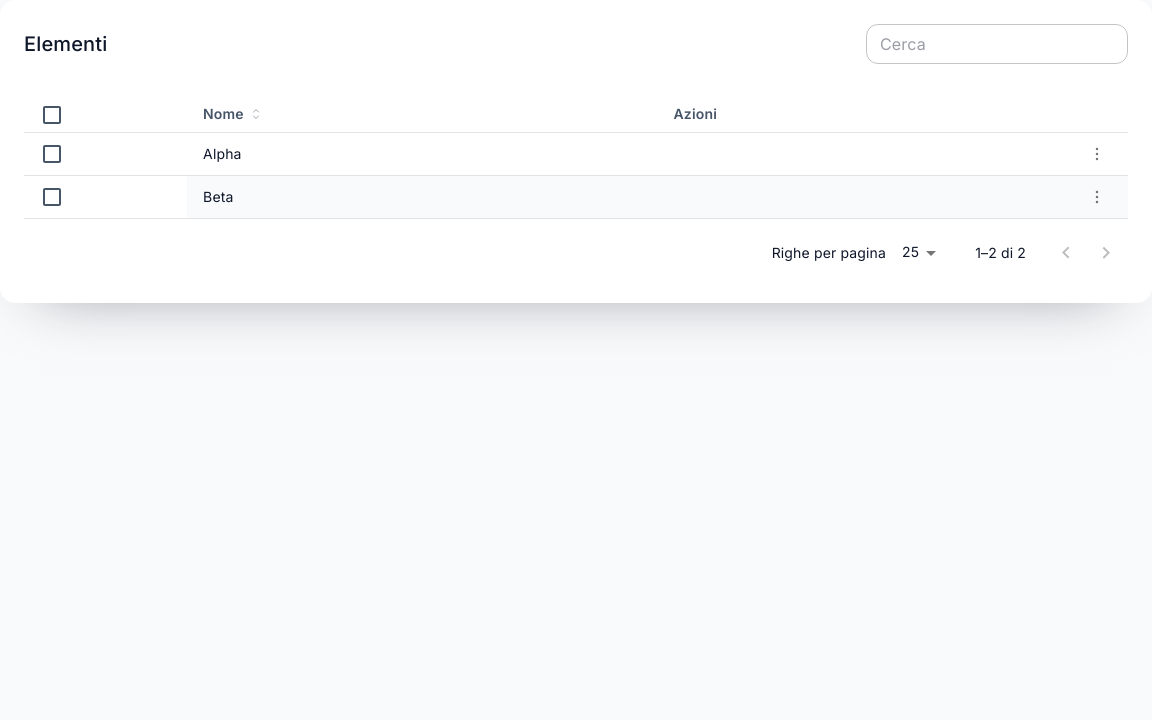
ListPage bulk selection › reports partial-failure counts when some bulk-edits reject
This screenshot has width=1152, height=720.
Expected: the text "Alpha" is shown, 187,132 -> 658,176
Click the checkbox named "Seleziona tutte le righe". click: coordinates (52, 115)
box: 40,103 -> 64,127
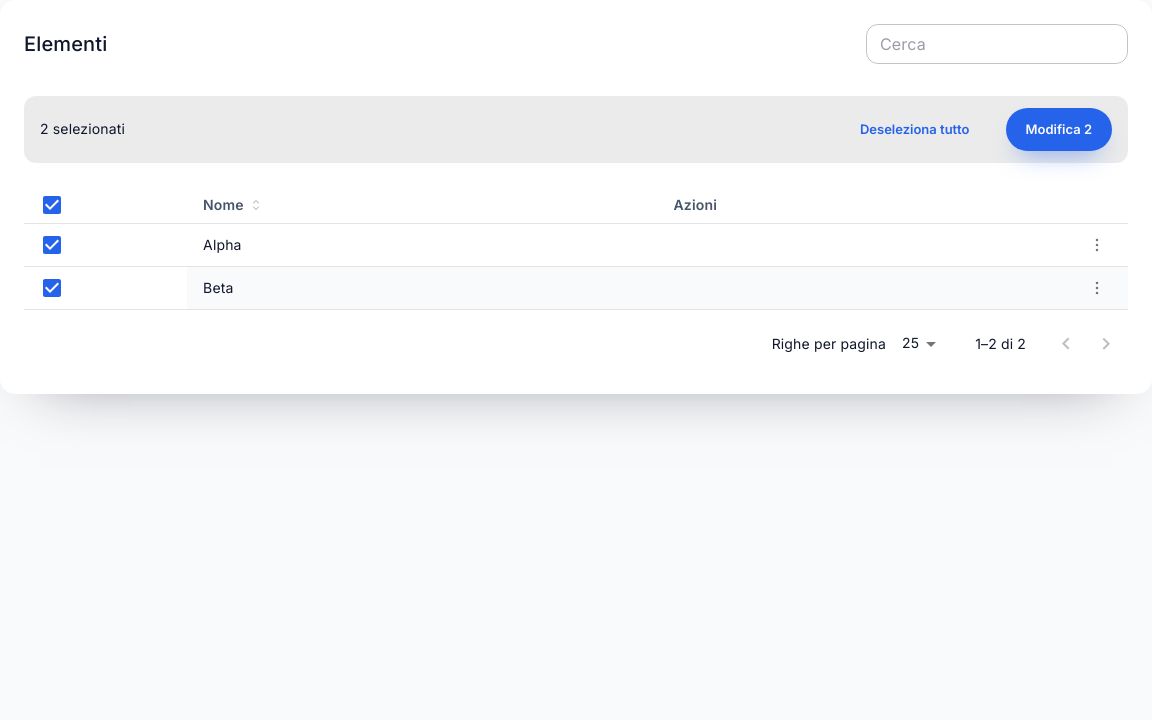
Result: the text "2 selezionati" is shown at 40,118 -> 125,141
Click the button "Modifica 2". click: coordinates (1059, 129)
box: 1006,108 -> 1112,151
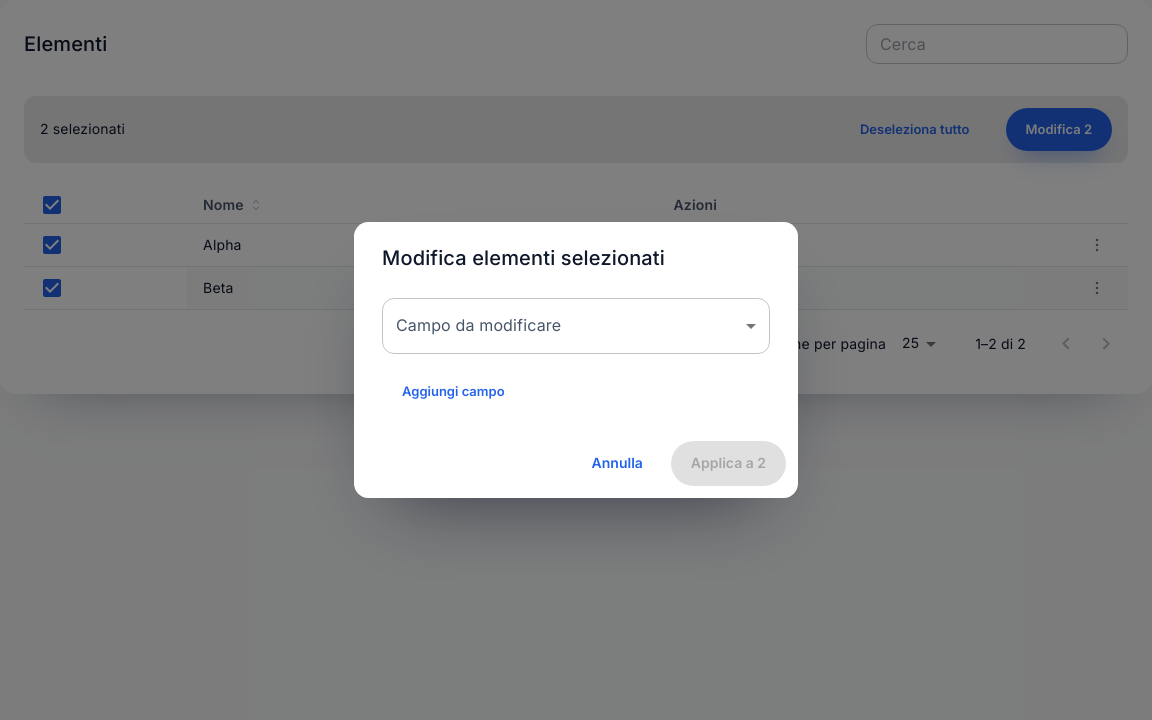
Click the dropdown named "Campo da modificare". click: coordinates (576, 326)
box: 382,298 -> 770,354
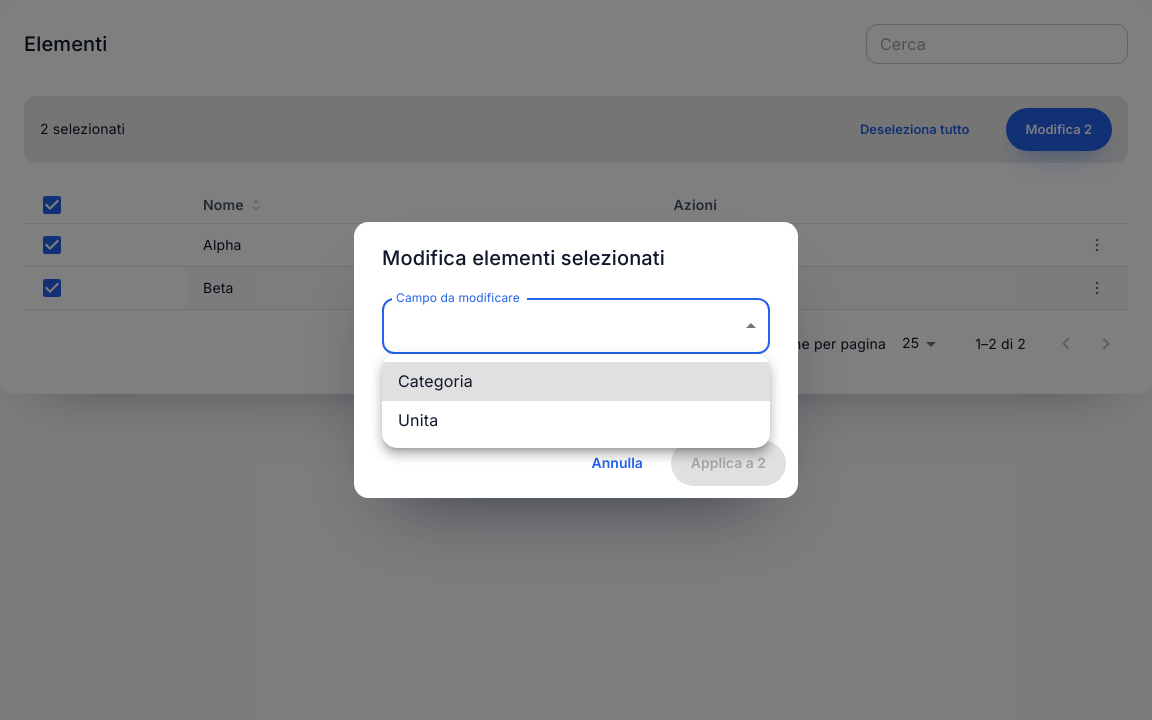
Click the option "Categoria". click: coordinates (435, 381)
box: 382,362 -> 770,401
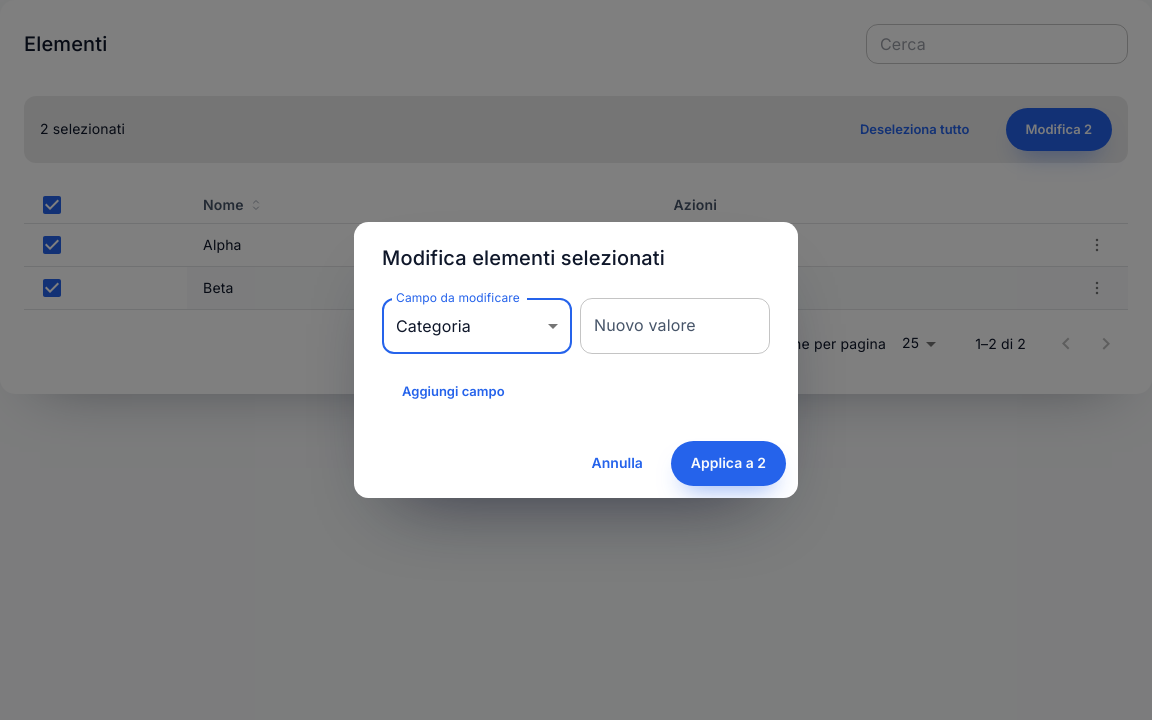
Type "Z" into the field labelled "Nuovo valore". click: coordinates (675, 326)
box: 580,298 -> 770,354
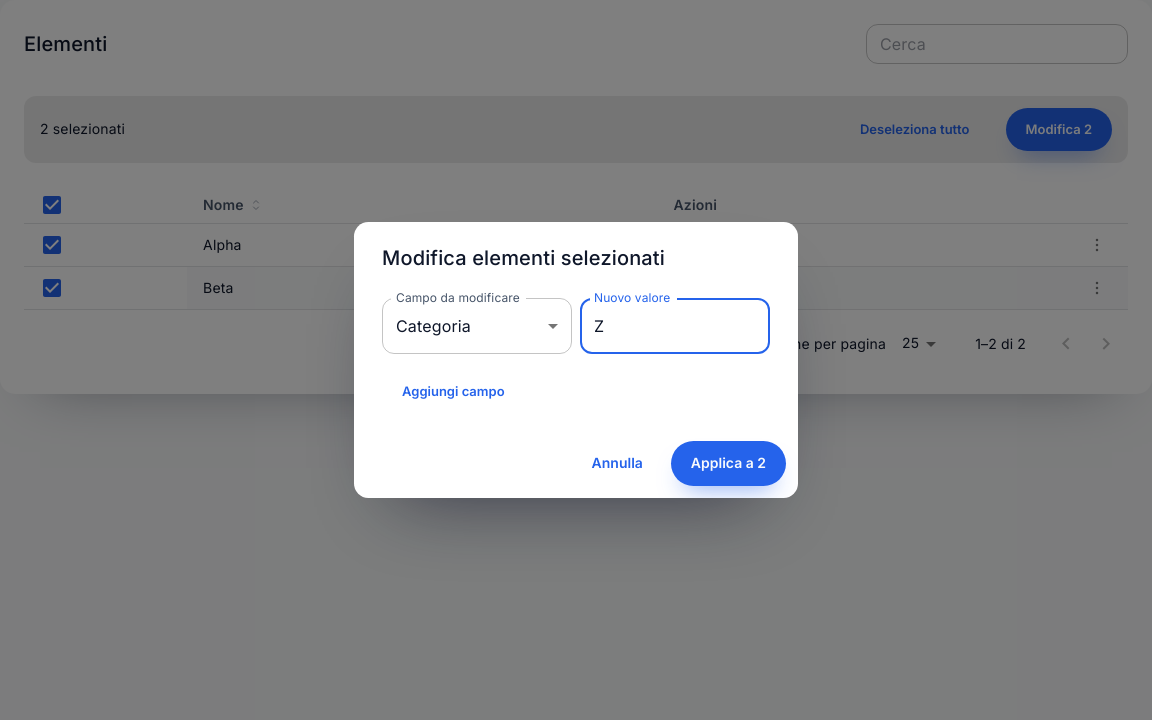
Click the button "Applica a 2". click: coordinates (728, 463)
box: 671,441 -> 786,486
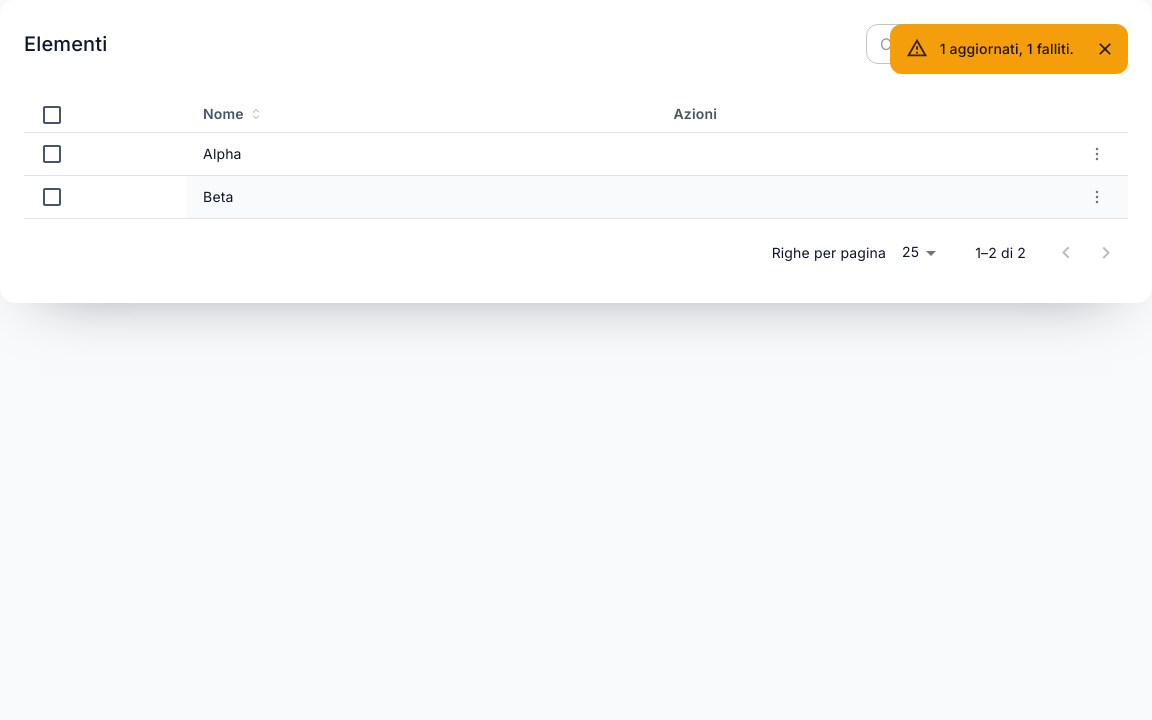
Result: the text "1 aggiornati, 1 falliti." is shown at 940,40 -> 1074,57
